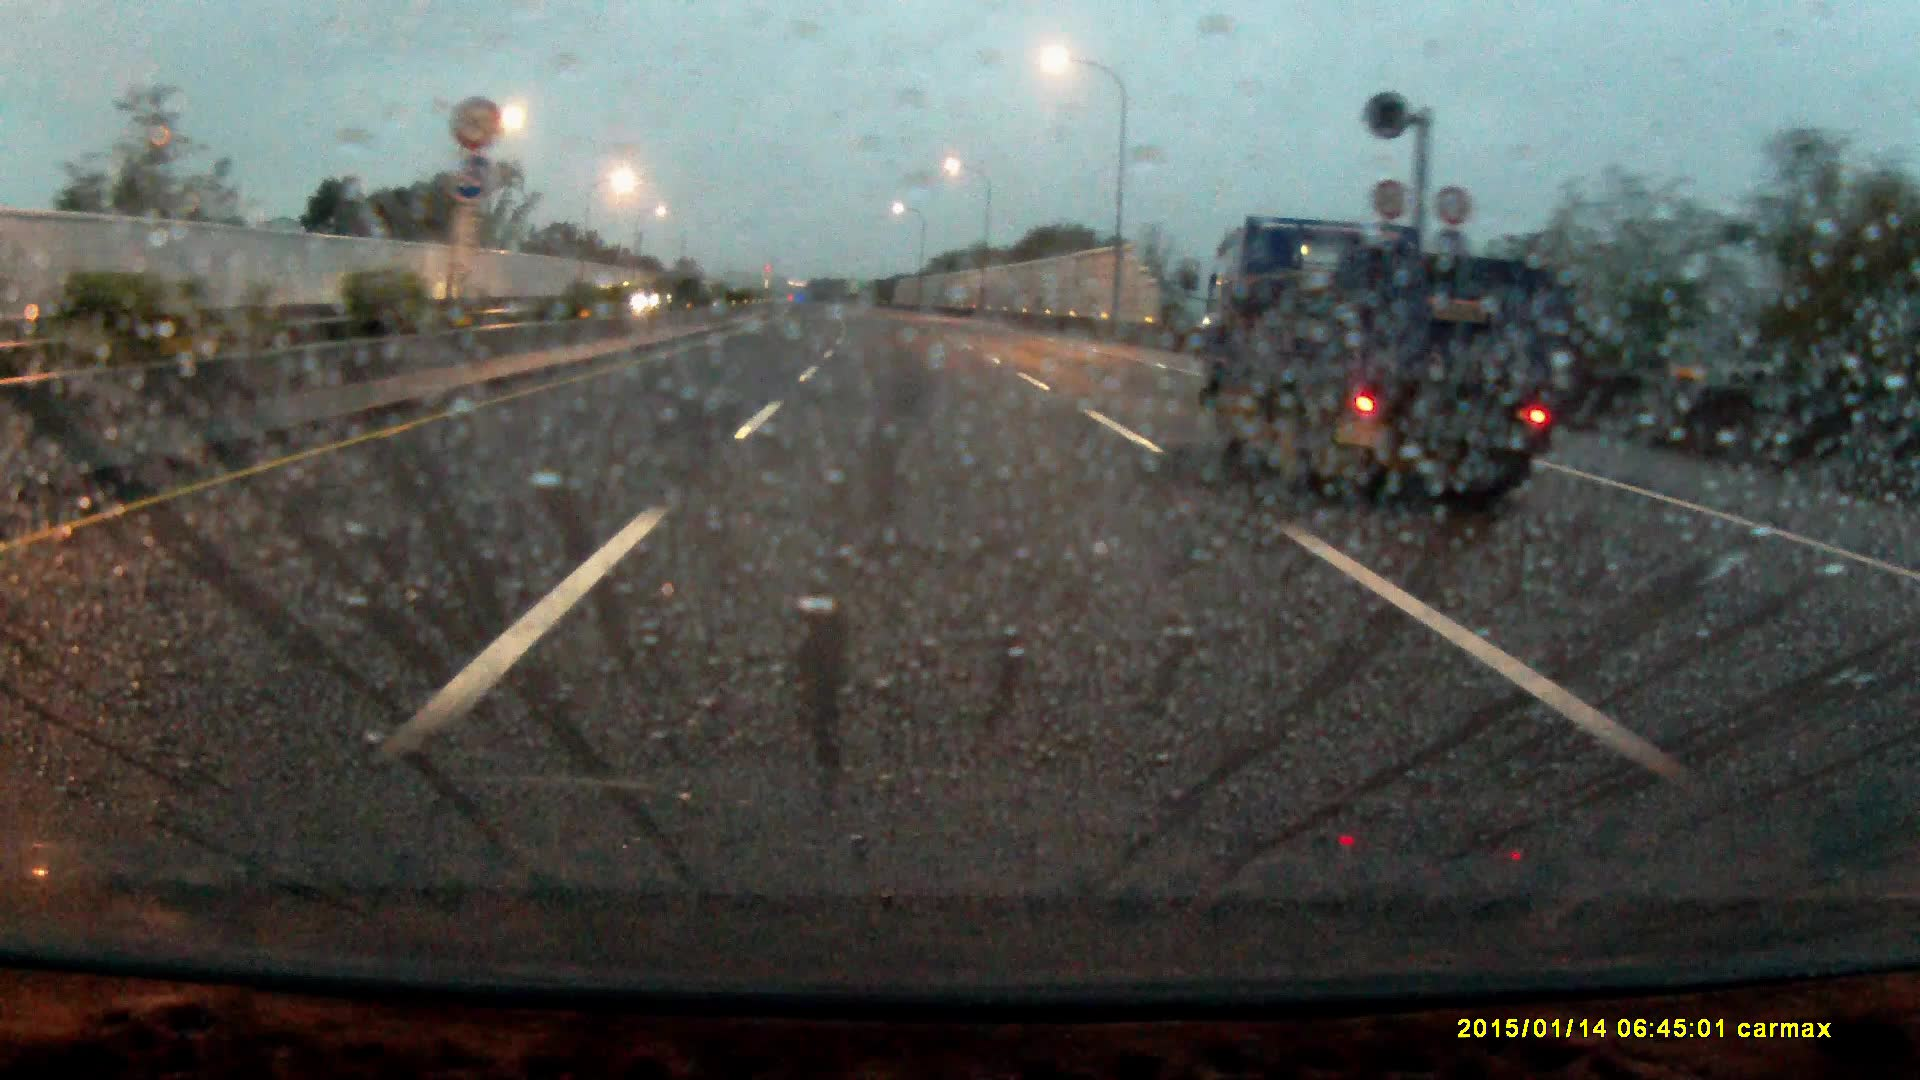vehicle: (1211, 204, 1605, 527)
